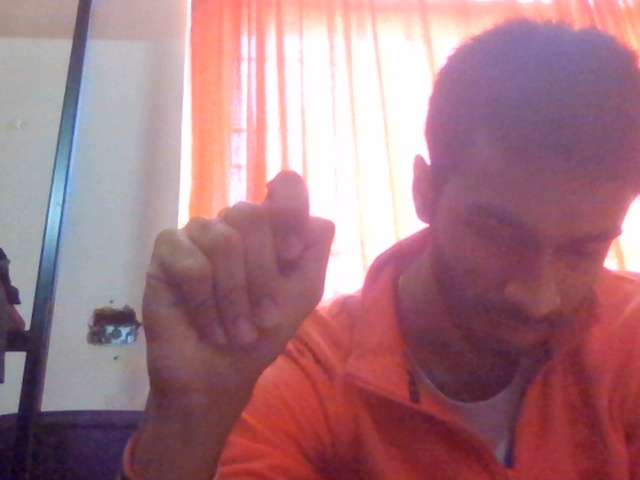T: (96, 128, 379, 452)
